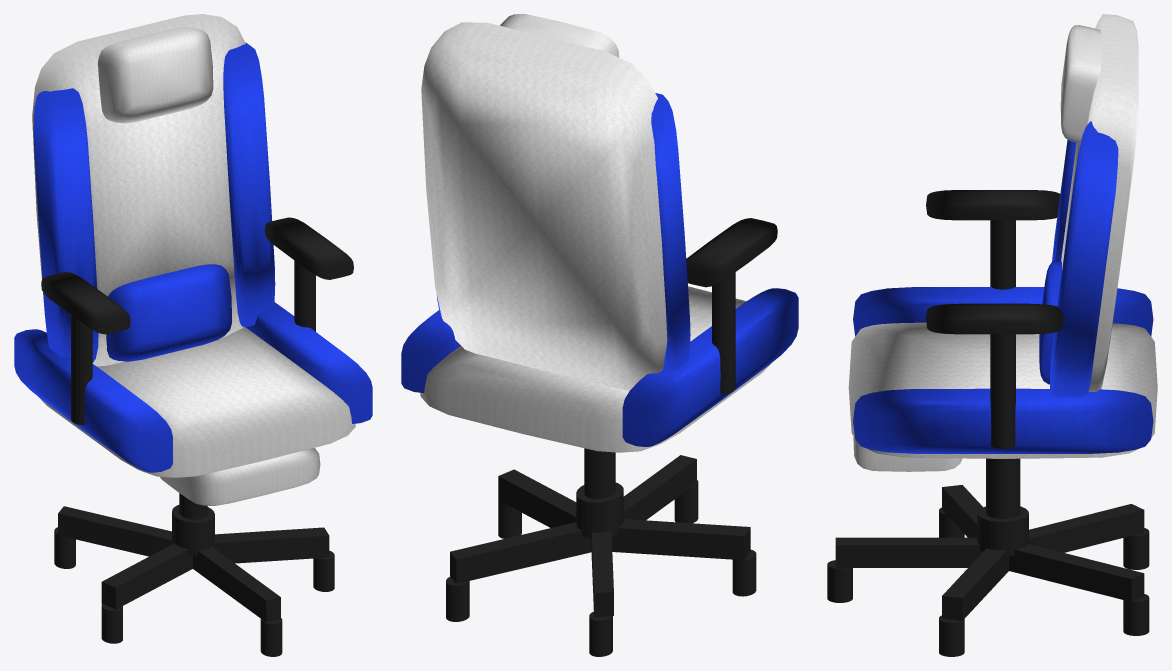
3 renders of one model, left to right at view 1: azimuth 30°, elevation 25°; view 2: azimuth 150°, elevation 25°; view 3: azimuth 270°, elevation 25°, orthographic. The views are drawn at different scales.
Parts seen in each view (by area): view 1: 4 backrest, 1 seat, 5 backrest_accent_left, 6 backrest_accent_right, 2 seat_side_bolster_left, 7 headrest, 8 lumbar_pillow, 3 seat_side_bolster_right, 13 footrest, 17 base_spoke_2, 19 base_spoke_4, 11 armrest_pad_left (+10 smaller); view 2: 4 backrest, 1 seat, 2 seat_side_bolster_left, 5 backrest_accent_left, 18 base_spoke_3, 20 base_spoke_5, 11 armrest_pad_left, 17 base_spoke_2, 3 seat_side_bolster_right, 16 base_spoke_1, 9 armrest_post_left, 7 headrest (+8 smaller); view 3: 3 seat_side_bolster_right, 1 seat, 6 backrest_accent_right, 4 backrest, 2 seat_side_bolster_left, 16 base_spoke_1, 18 base_spoke_3, 12 armrest_pad_right, 11 armrest_pad_left, 7 headrest, 19 base_spoke_4, 10 armrest_post_right (+12 smaller).
Part boxes in pixels (x1,y1,x2,y2): 4 backrest: (32, 14, 245, 366); 1 seat: (39, 327, 355, 477); 5 backrest_accent_left: (33, 88, 98, 362); 6 backrest_accent_right: (223, 42, 275, 326); 2 seat_side_bolster_left: (14, 329, 172, 472); 7 headrest: (98, 27, 213, 123); 8 lumbar_pillow: (106, 264, 231, 361); 3 seat_side_bolster_right: (245, 302, 372, 423); 13 footrest: (160, 448, 320, 505); 17 base_spoke_2: (214, 527, 329, 563); 19 base_spoke_4: (58, 506, 172, 556); 11 armrest_pad_left: (41, 272, 130, 334); 4 backrest: (421, 22, 667, 390); 1 seat: (420, 286, 770, 452); 2 seat_side_bolster_left: (622, 288, 798, 446); 5 backrest_accent_left: (651, 93, 690, 371); 18 base_spoke_3: (450, 522, 591, 583); 20 base_spoke_5: (611, 519, 750, 560); 11 armrest_pad_left: (686, 218, 777, 287); 17 base_spoke_2: (498, 469, 576, 527); 3 seat_side_bolster_right: (401, 310, 460, 392); 16 base_spoke_1: (623, 455, 696, 520); 9 armrest_post_left: (712, 272, 735, 394); 7 headrest: (500, 14, 619, 57); 3 seat_side_bolster_right: (853, 388, 1153, 453); 1 seat: (848, 322, 1157, 458); 6 backrest_accent_right: (1050, 121, 1118, 396); 4 backrest: (1061, 14, 1138, 391); 2 seat_side_bolster_left: (853, 287, 1153, 336); 16 base_spoke_1: (835, 537, 981, 567); 18 base_spoke_3: (1009, 544, 1144, 601); 12 armrest_pad_right: (926, 303, 1063, 334); 11 armrest_pad_left: (926, 190, 1060, 220); 7 headrest: (1060, 25, 1101, 143); 19 base_spoke_4: (1029, 504, 1144, 552); 10 armrest_post_right: (990, 334, 1015, 448).
Size of the model in its own units: 0.51 by 1 by 0.54.
Materials: 4 (2 with a texture image).
